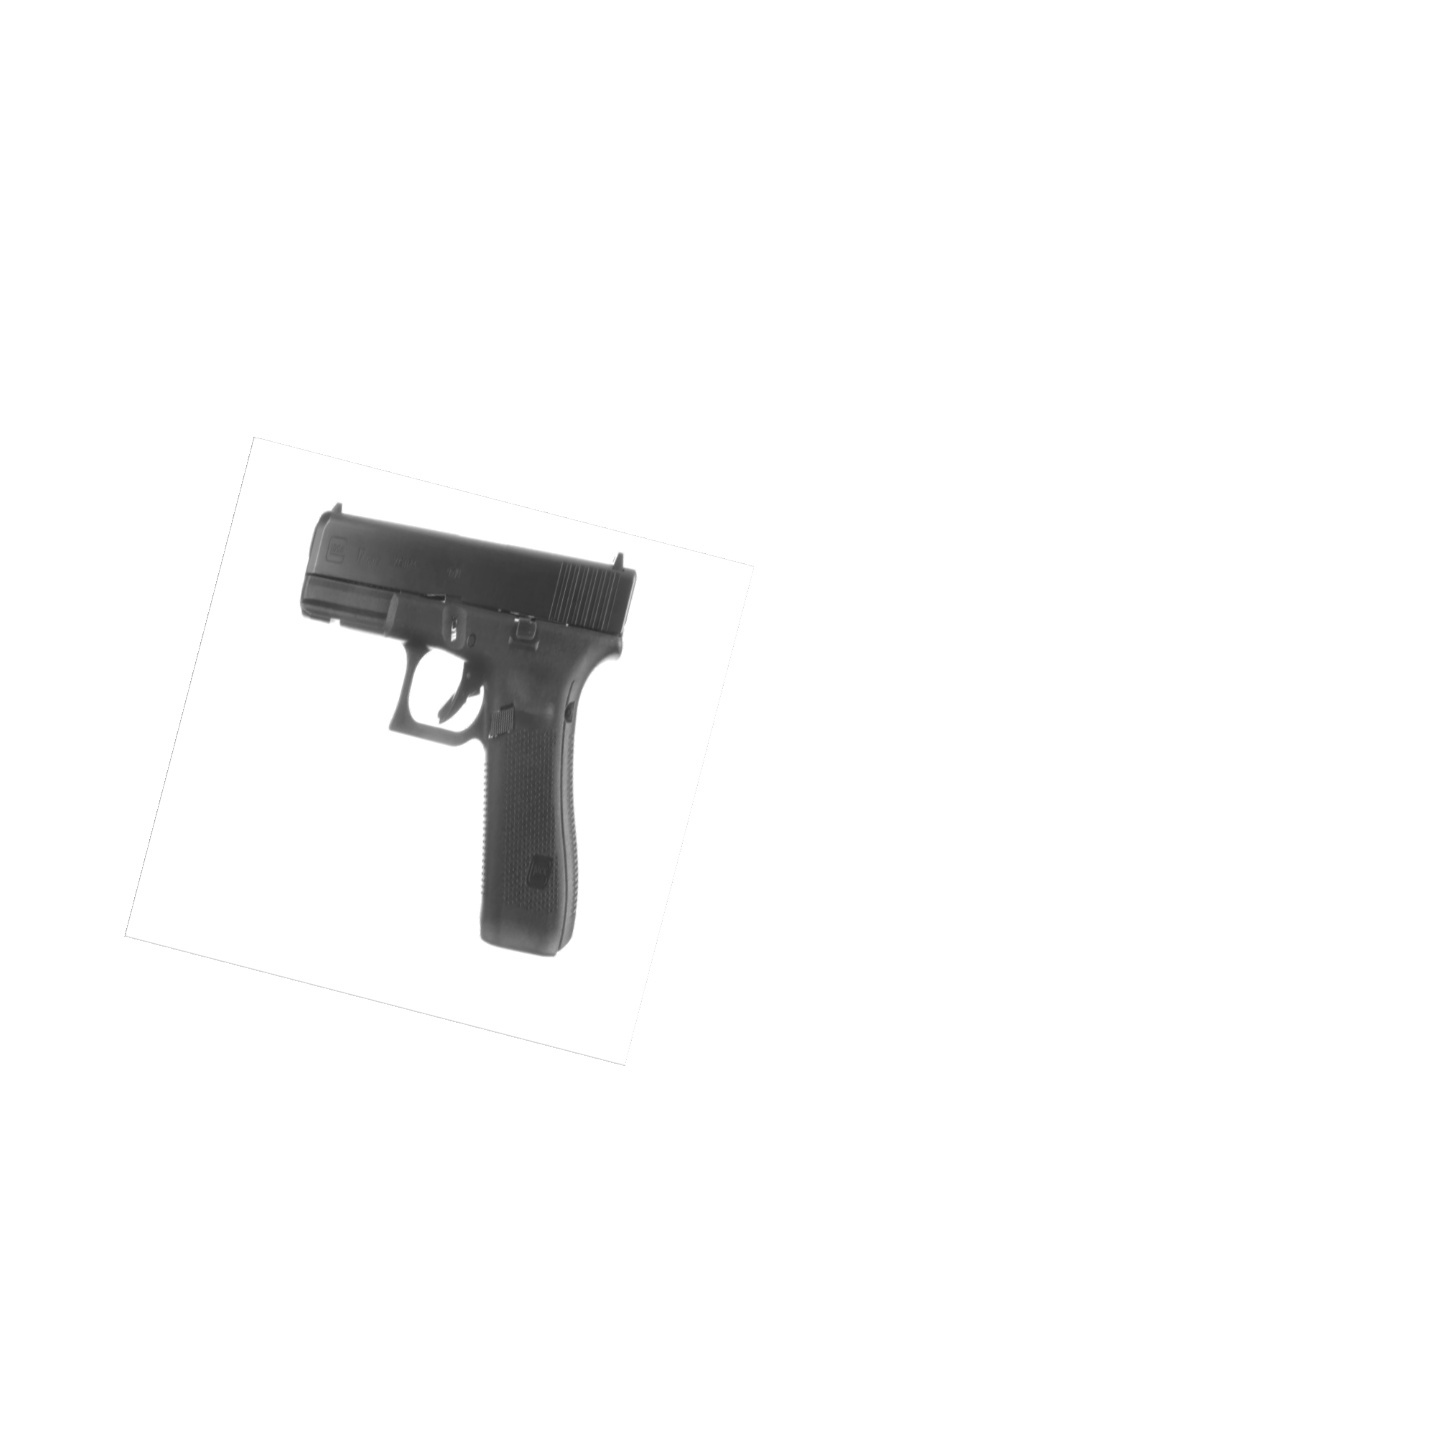gun: (300, 503, 641, 952)
